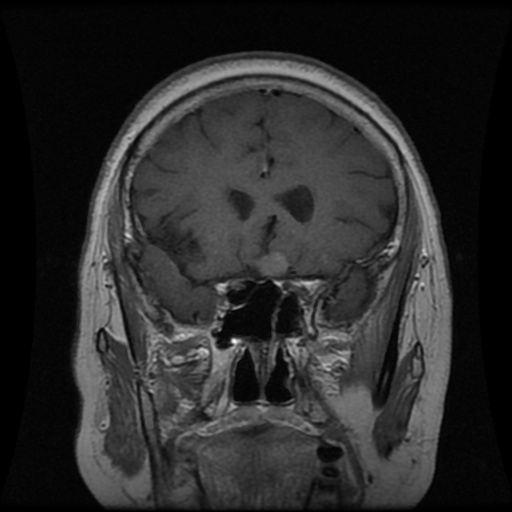pituitary: (260, 252, 288, 277)
